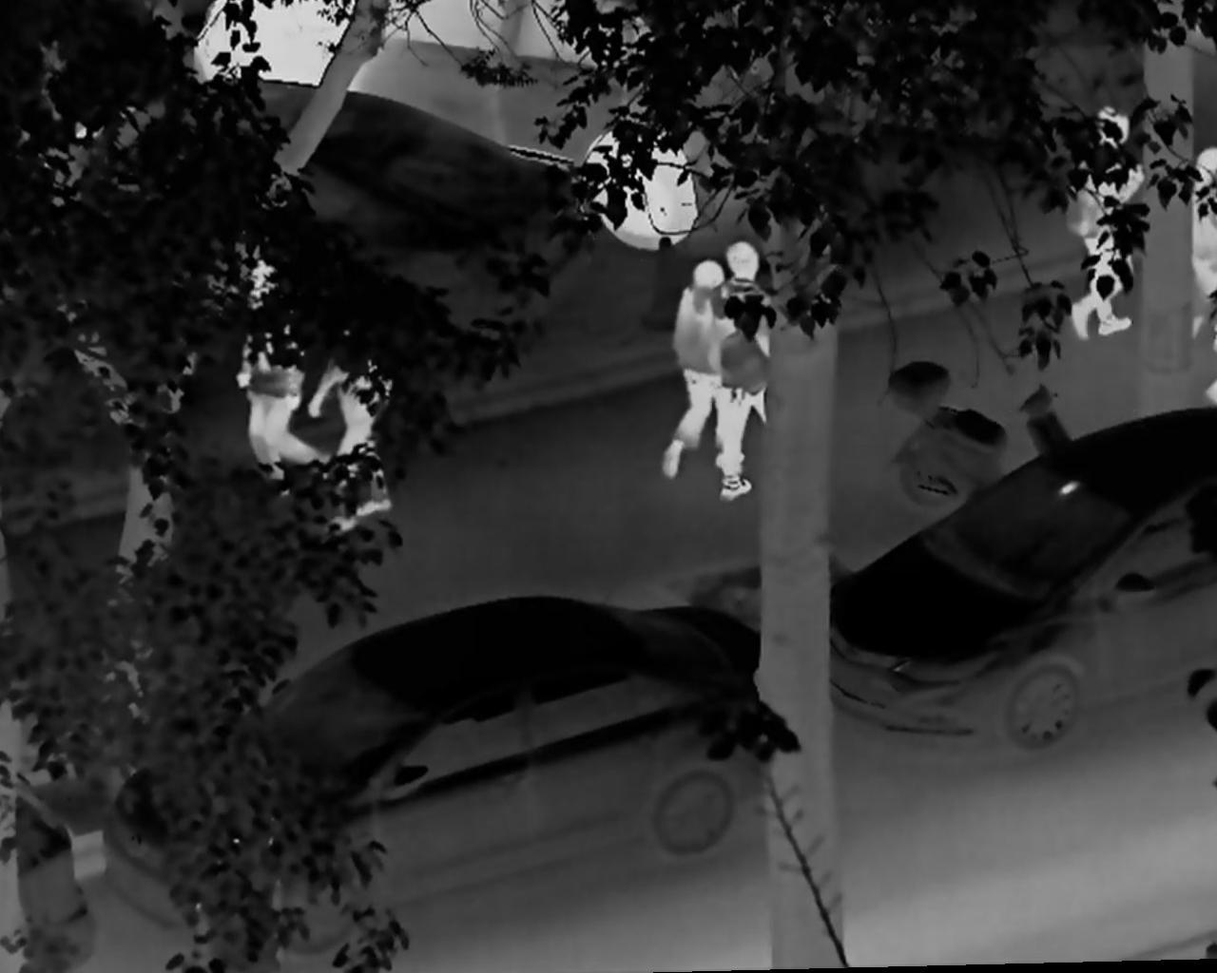person: (219, 249, 333, 517), (305, 335, 407, 544), (657, 254, 749, 481), (708, 239, 782, 503), (1070, 98, 1137, 341), (1180, 129, 1217, 344), (1200, 366, 1217, 414)
